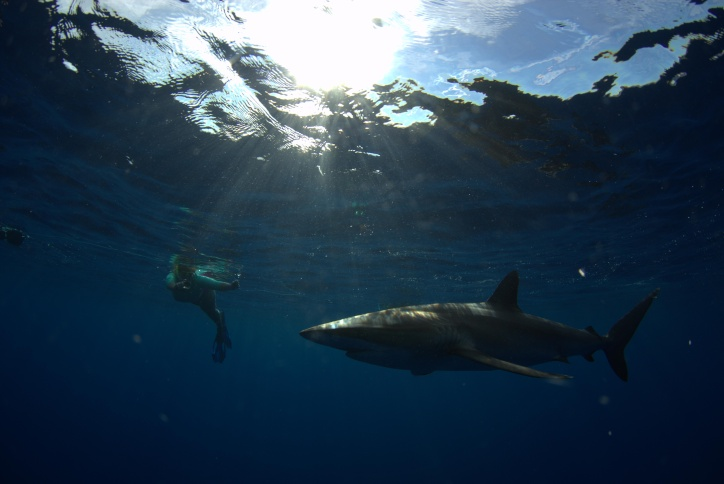Sedoso: (283, 265, 666, 407)
